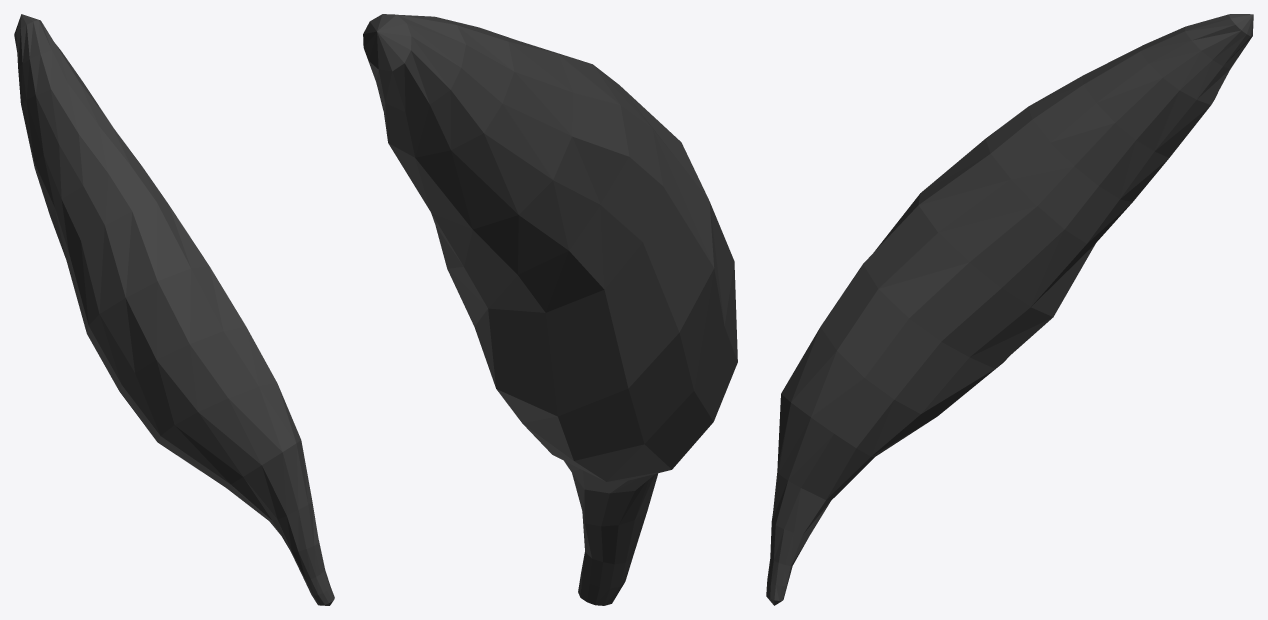
File: VastusMedius.glb
3 views of the same model, side by side, from view 1: azimuth 30°, elevation 25°; view 2: azimuth 150°, elevation 25°; view 3: azimuth 270°, elevation 25° (orthographic). The views are drawn at different scales.
Parts seen in each view (by area): view 1: VastusMedius; view 2: VastusMedius; view 3: VastusMedius.
Boxes of the visible parts, <box> form: VastusMedius: <box>14,14,334,605</box>; VastusMedius: <box>363,14,737,605</box>; VastusMedius: <box>766,14,1253,605</box>.
Size of the model in its own units: 1.93 by 5.66 by 4.67.
Materials: 1 (1 with a texture image).
